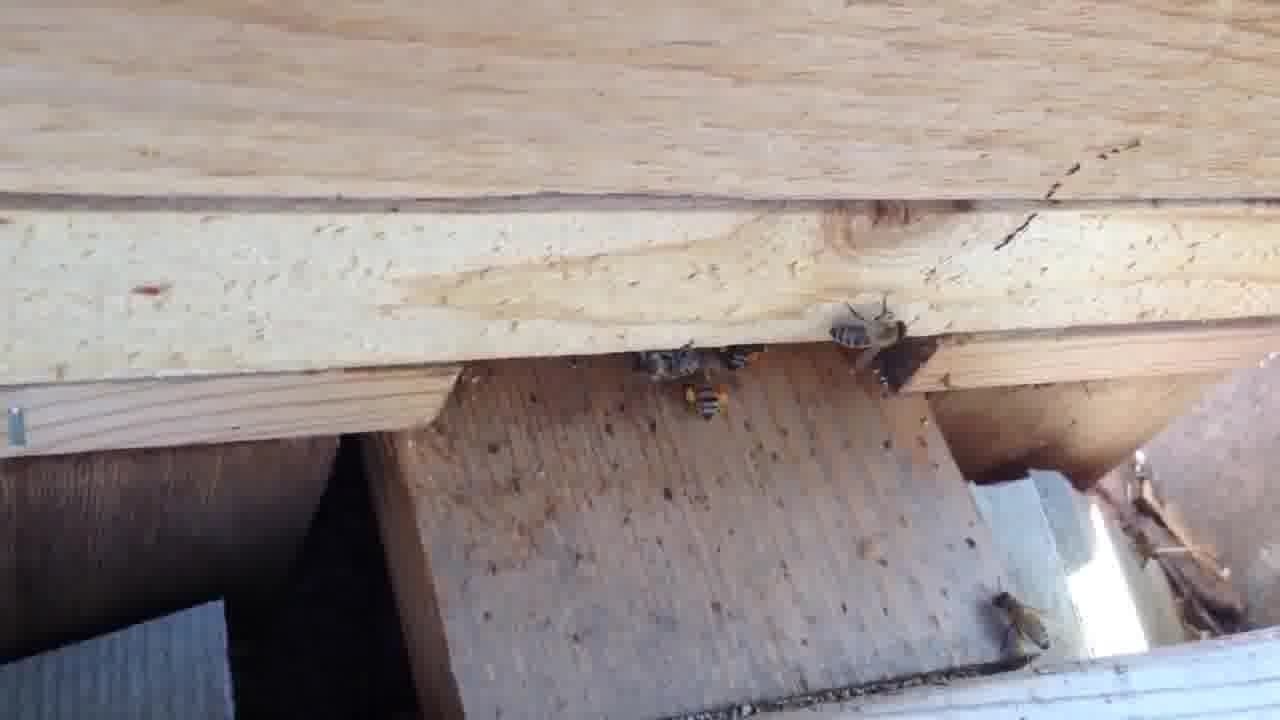pollen: (688, 359, 733, 423)
